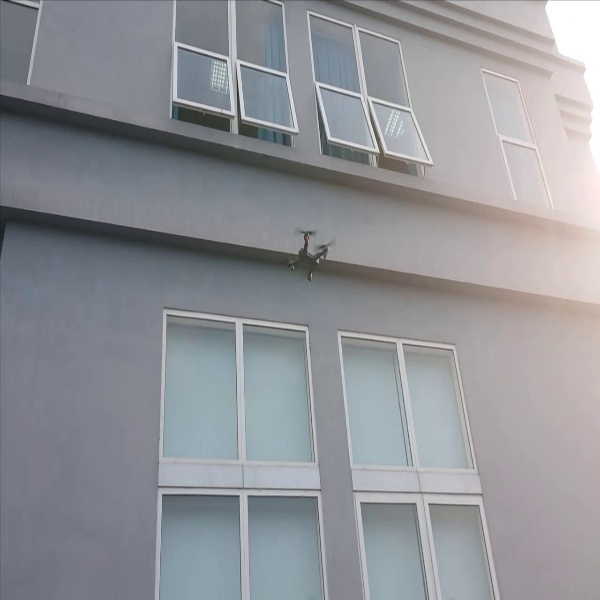drone: (283, 224, 337, 291)
